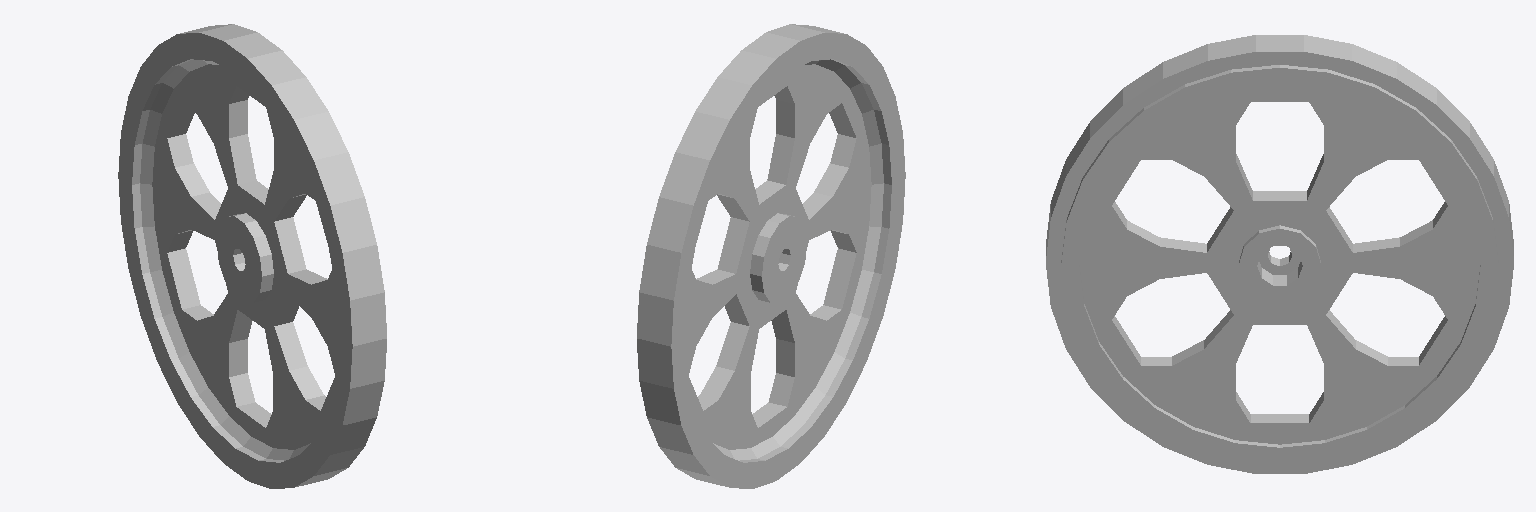
The model's file is better_wheel.obj.
3 renders of one model, left to right at view 1: azimuth 30°, elevation 25°; view 2: azimuth 150°, elevation 25°; view 3: azimuth 270°, elevation 25°, orthographic.
Parts seen in each view (by area): view 1: EGR101_wheel; view 2: EGR101_wheel; view 3: EGR101_wheel.
Boxes of the visible parts, x1=… form: EGR101_wheel: x1=118, y1=24, x2=386, y2=488; EGR101_wheel: x1=637, y1=24, x2=905, y2=488; EGR101_wheel: x1=1046, y1=35, x2=1513, y2=473.
Size of the model in its own units: 6.61 by 64.92 by 65.28.